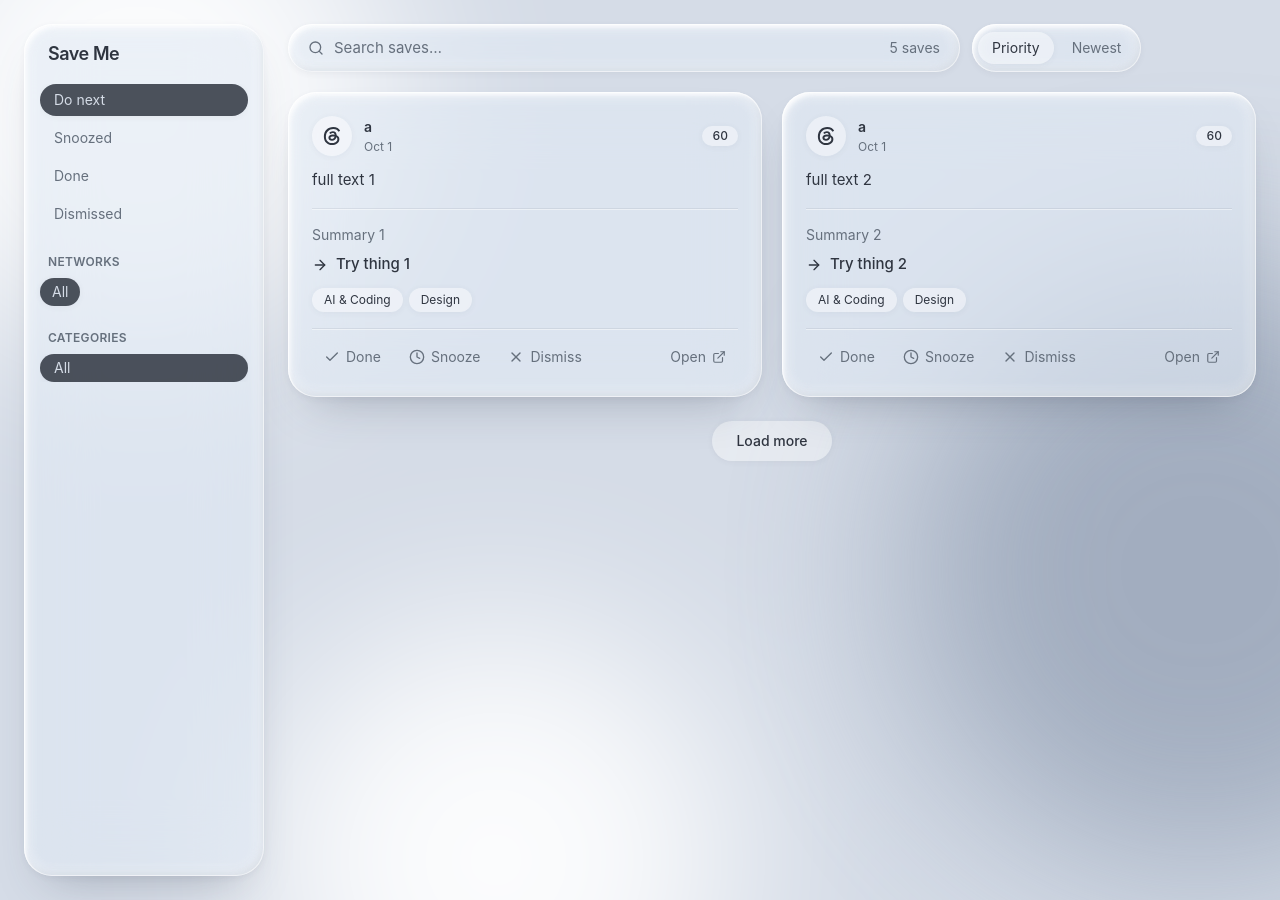
Test: shows an error when loading more fails
Click the button "Load more". click: coordinates (772, 441)
box: x1=712 y1=421 x2=832 y2=461
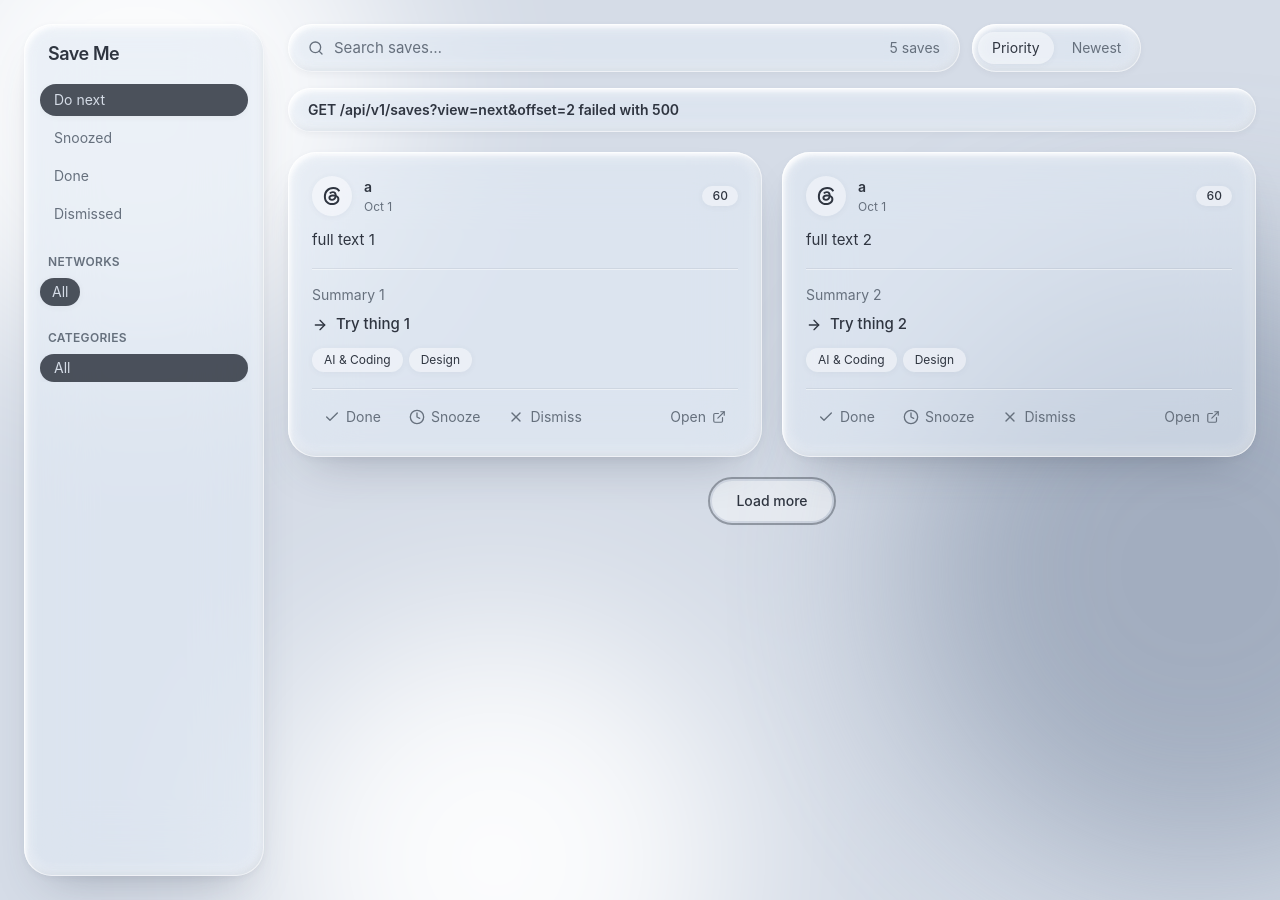
expect the text "Summary 1" is shown: met, box x1=312 y1=286 x2=385 y2=303
expect the text "GET /api/v1/saves?view=next&offset=2 failed with 500" is shown: met, box x1=288 y1=88 x2=1256 y2=132
Click the button "Load more". click: coordinates (772, 501)
box: x1=712 y1=481 x2=832 y2=521
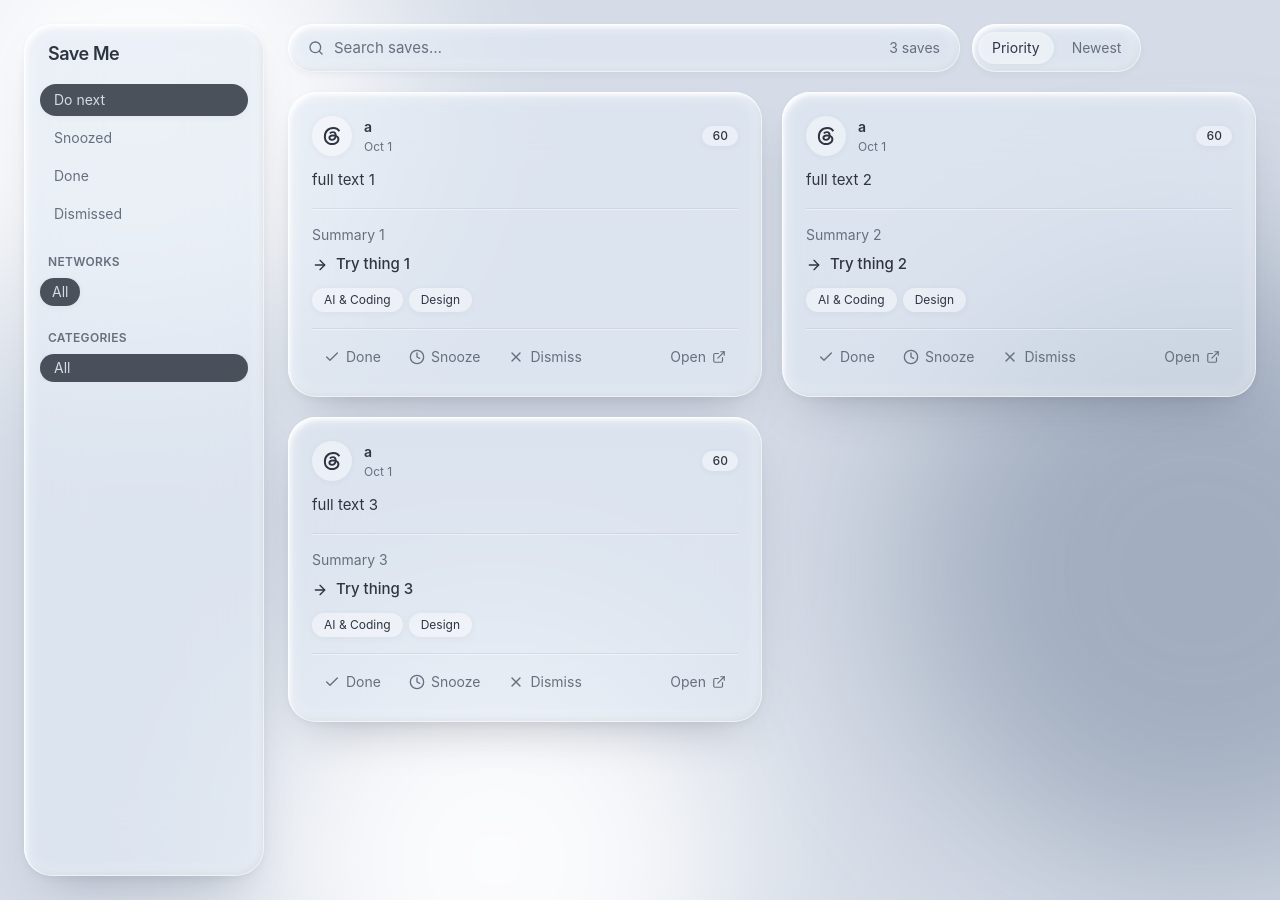
expect the text "failed with 500" is gone: met
expect the text "Summary 3" is shown: met, box x1=312 y1=551 x2=388 y2=568
